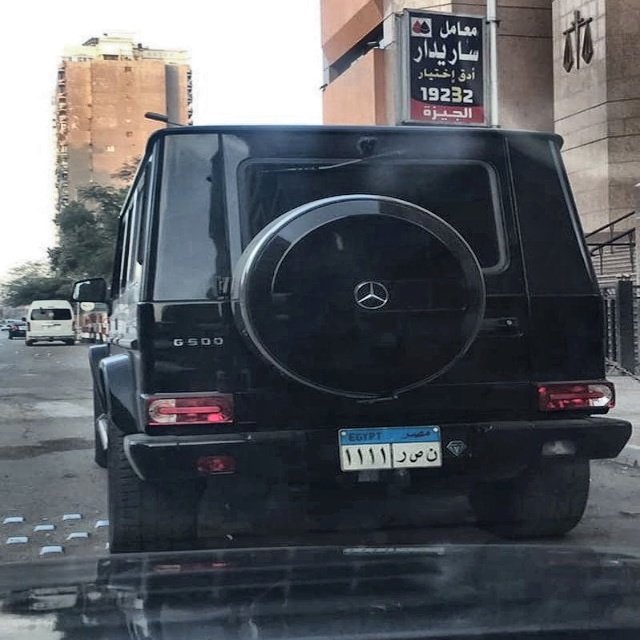License Plate: (336, 423, 445, 473)
